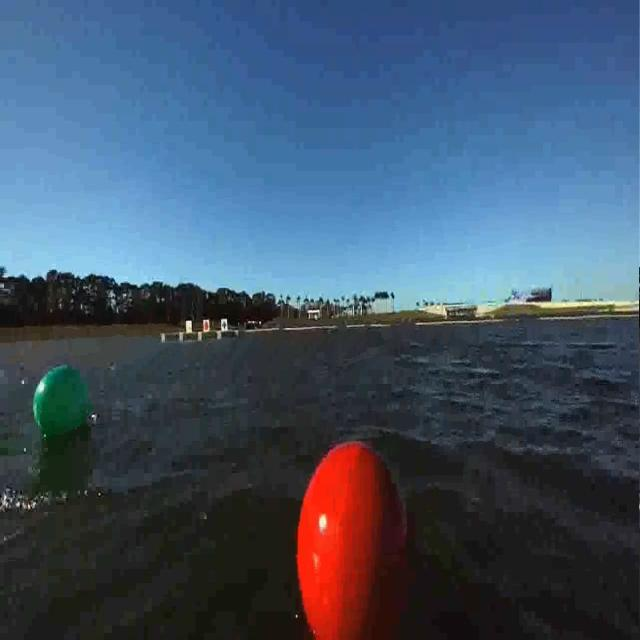green-buoy: (34, 364, 94, 442)
red-buoy: (292, 441, 408, 640)
